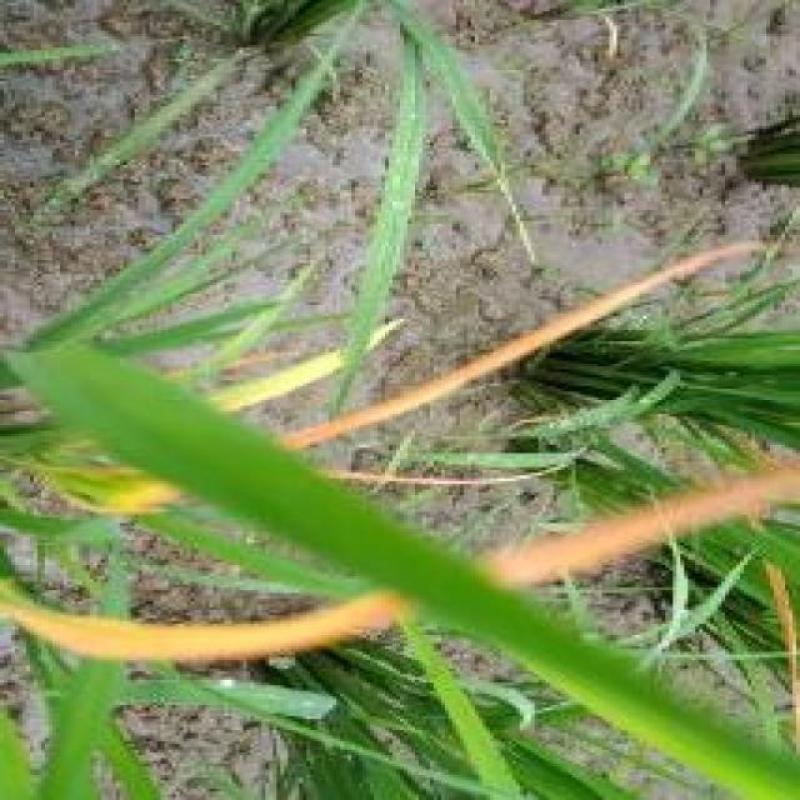Rice Tungro: (41, 598, 422, 688), (225, 334, 413, 401), (602, 233, 752, 312), (432, 324, 556, 391)
